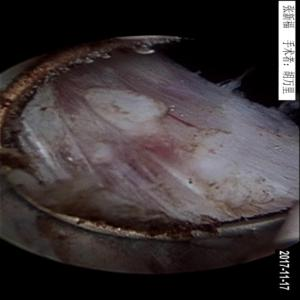film: (46, 59, 285, 210)
